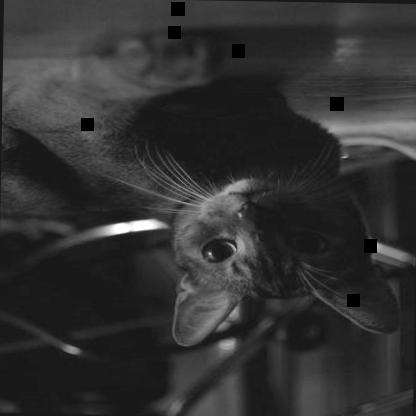cat: (0, 31, 404, 352)
